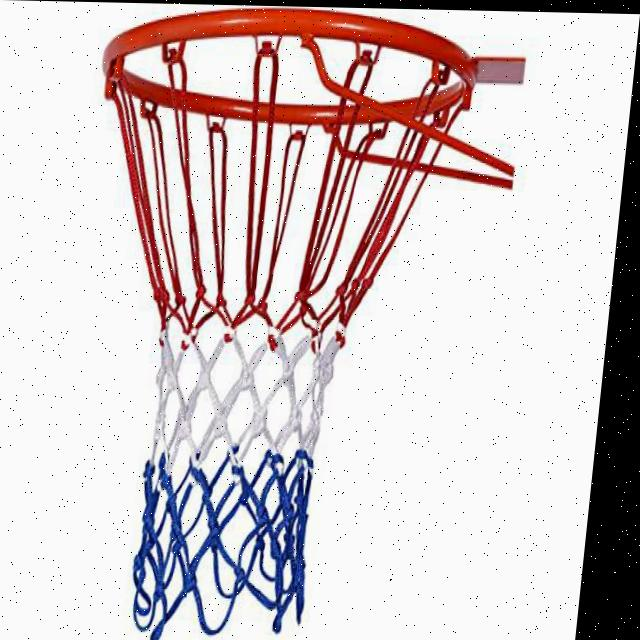hoop: (43, 2, 483, 640)
